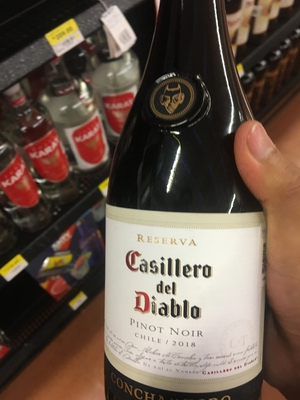casillero del diablo pinot noir: (84, 54, 283, 400)
